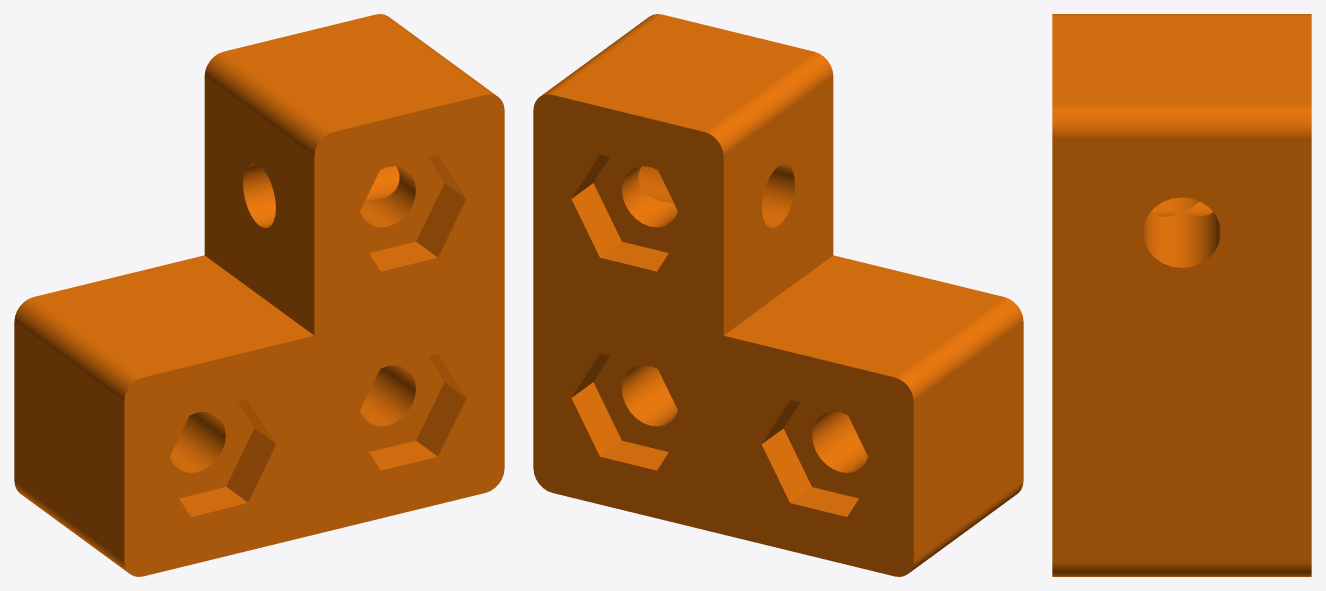
File: L3N_orange.glb
3 views of the same model, side by side, from view 1: azimuth 30°, elevation 25°; view 2: azimuth 150°, elevation 25°; view 3: azimuth 270°, elevation 25° (orthographic). The views are drawn at different scales.
Parts seen in each view (by area): view 1: L3N; view 2: L3N; view 3: L3N.
Boxes of the visible parts, x1=… form: L3N: x1=14, y1=14, x2=504, y2=576; L3N: x1=533, y1=14, x2=1023, y2=576; L3N: x1=1052, y1=14, x2=1311, y2=576.
Size of the model in its own units: 0.02 by 0.02 by 0.01.
